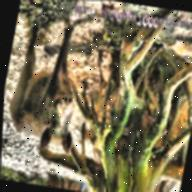boar: (1, 4, 98, 167)
